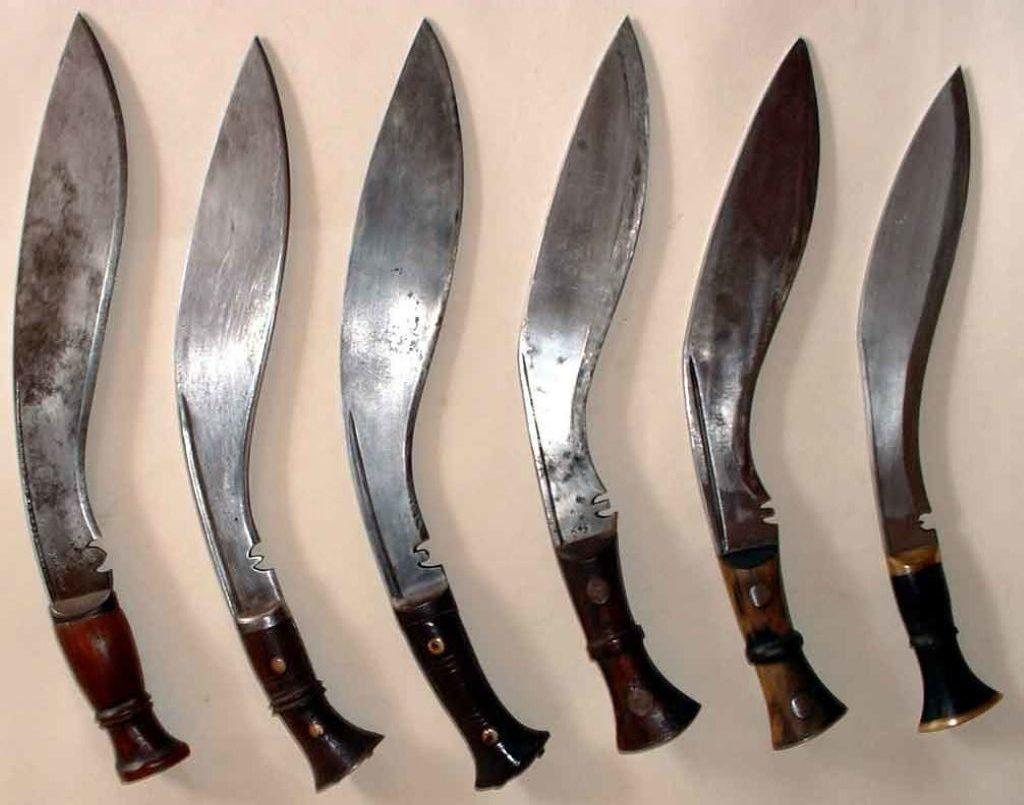facao: (339, 19, 555, 789), (175, 35, 388, 786), (8, 8, 192, 777), (530, 17, 705, 758), (679, 30, 855, 751), (858, 65, 1002, 738)
